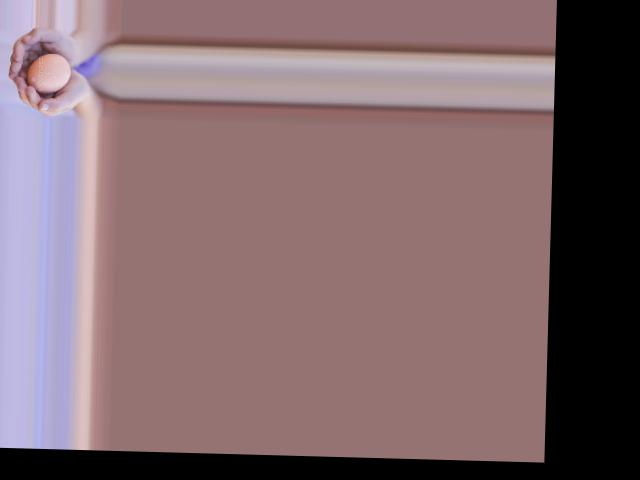egg: (26, 51, 71, 93)
